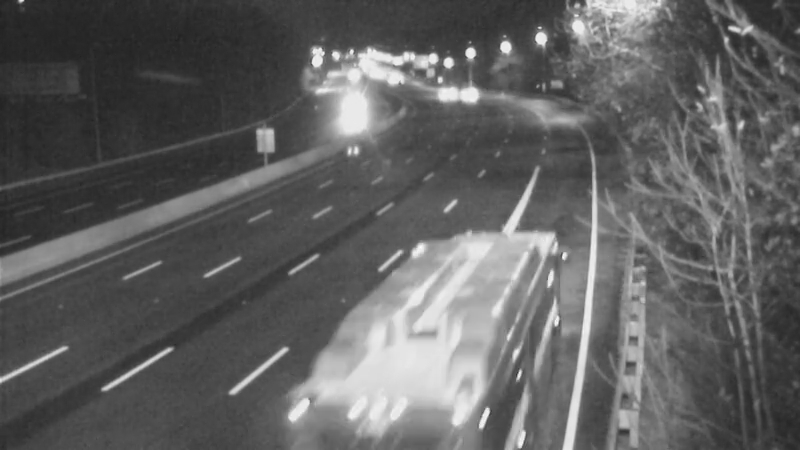vehicle: (351, 323, 461, 433), (416, 70, 466, 120), (440, 68, 490, 118), (328, 83, 378, 133)
